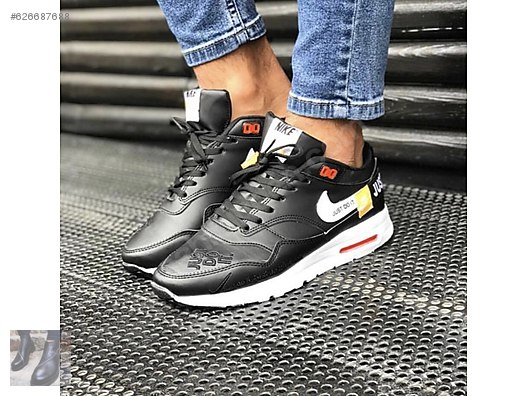nike: (311, 188, 368, 222)
